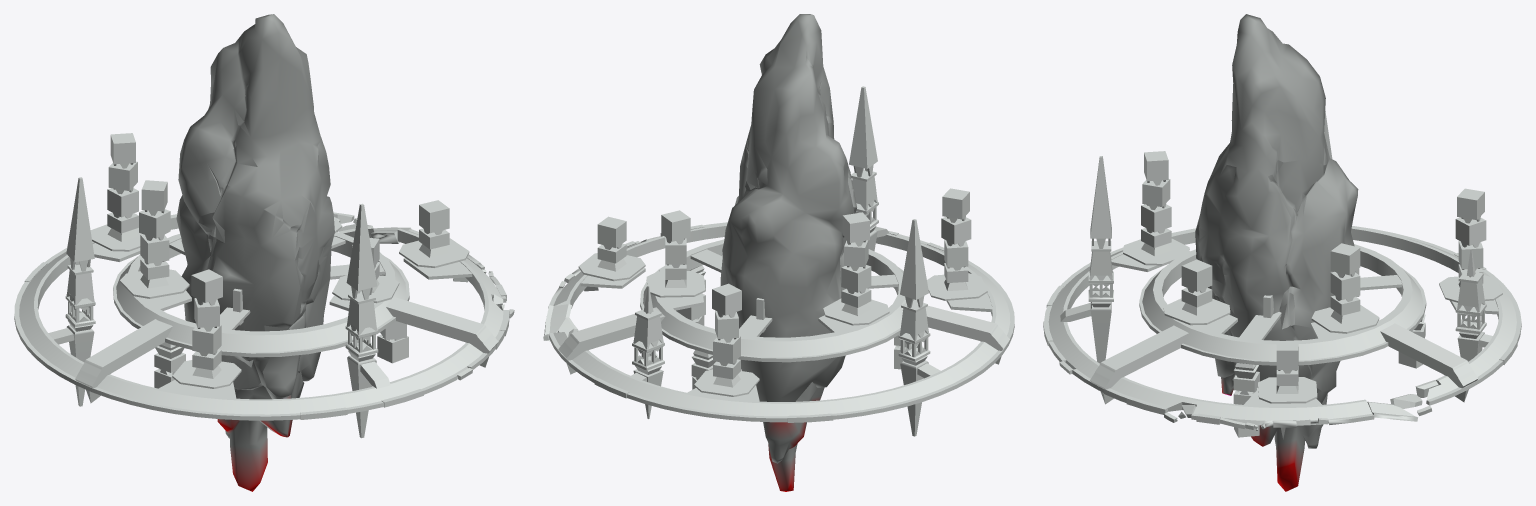
The picture shows the model from 3 angles, left to right: view 1: azimuth 30°, elevation 25°; view 2: azimuth 150°, elevation 25°; view 3: azimuth 270°, elevation 25°; orthographic projection. The views are drawn at different scales.
Visible parts, largest first — view 1: G:\FFXIV-MapTools\exports\u5f2\bg\ex4\04_uvs_u5\fld\u5f2\bgp (×5); view 2: G:\FFXIV-MapTools\exports\u5f2\bg\ex4\04_uvs_u5\fld\u5f2\bgp (×5); view 3: G:\FFXIV-MapTools\exports\u5f2\bg\ex4\04_uvs_u5\fld\u5f2\bgp (×5).
Boxes of the visible parts, left/top/right/bottom form: G:\FFXIV-MapTools\exports\u5f2\bg\ex4\04_uvs_u5\fld\u5f2\bgp (×5): left=14, top=14, right=514, bottom=491; G:\FFXIV-MapTools\exports\u5f2\bg\ex4\04_uvs_u5\fld\u5f2\bgp (×5): left=543, top=14, right=1014, bottom=491; G:\FFXIV-MapTools\exports\u5f2\bg\ex4\04_uvs_u5\fld\u5f2\bgp (×5): left=1043, top=14, right=1521, bottom=491.
Bounding box in the file's own units: 17.7 × 19.24 × 17.6.
